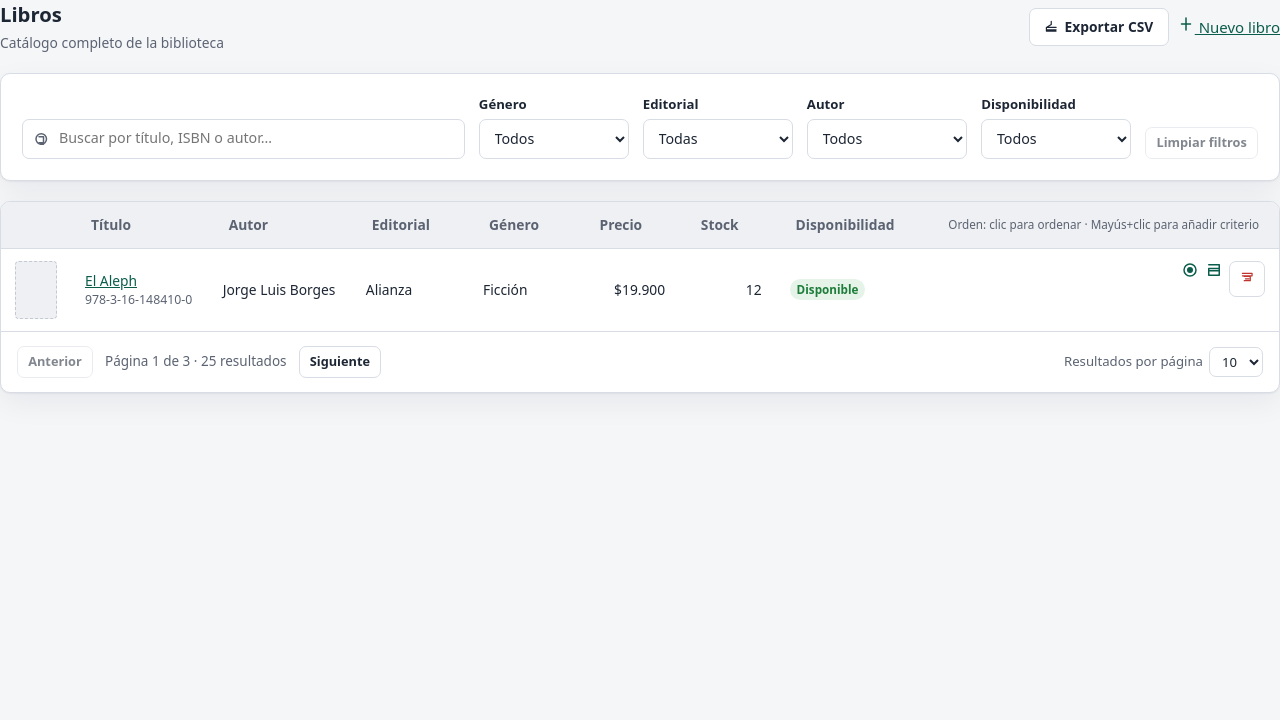
Test: BooksPage › deletes a book through the confirmation dialog
This screenshot has width=1280, height=720.
Expected: the link "El Aleph" is shown, [85,271,137,290]
Click the button named "Eliminar El Aleph" at (1247, 278), box [1229,260,1265,296]
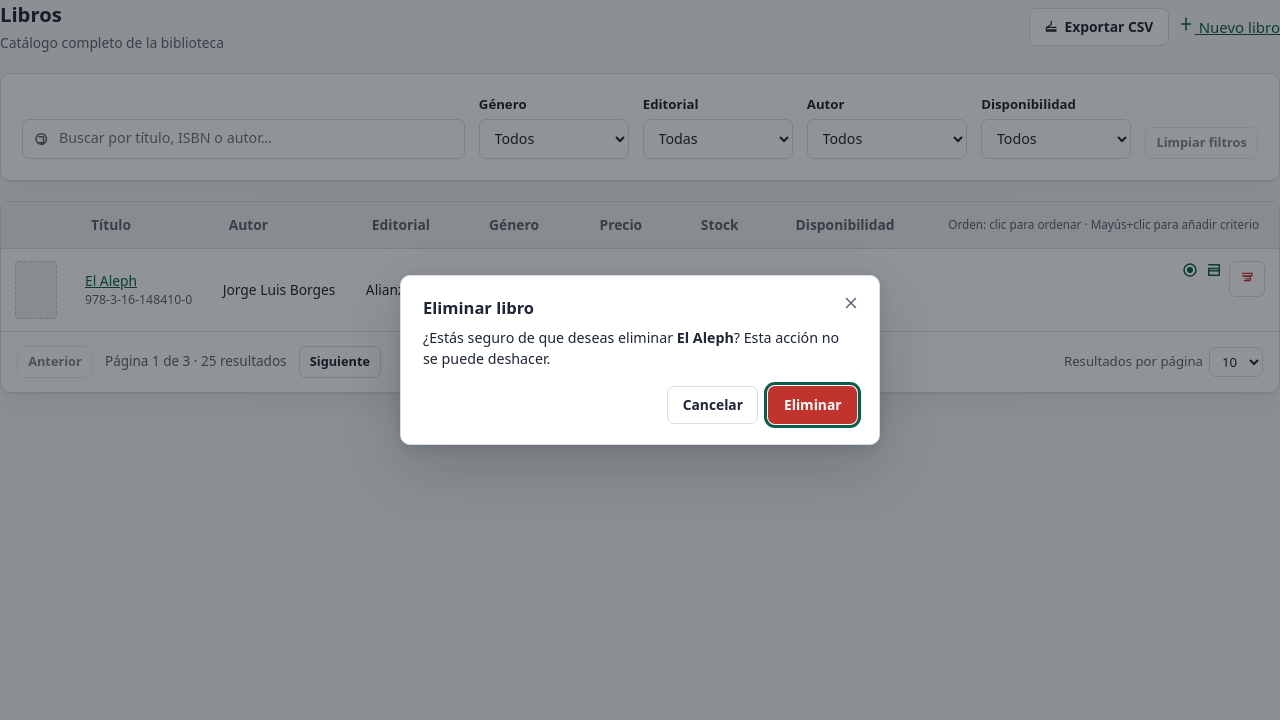
Expected: the text "¿Estás seguro de que deseas eliminar" is shown, [423,328,677,347]
Click the button "Eliminar" at (813, 405), box [768,386,857,424]
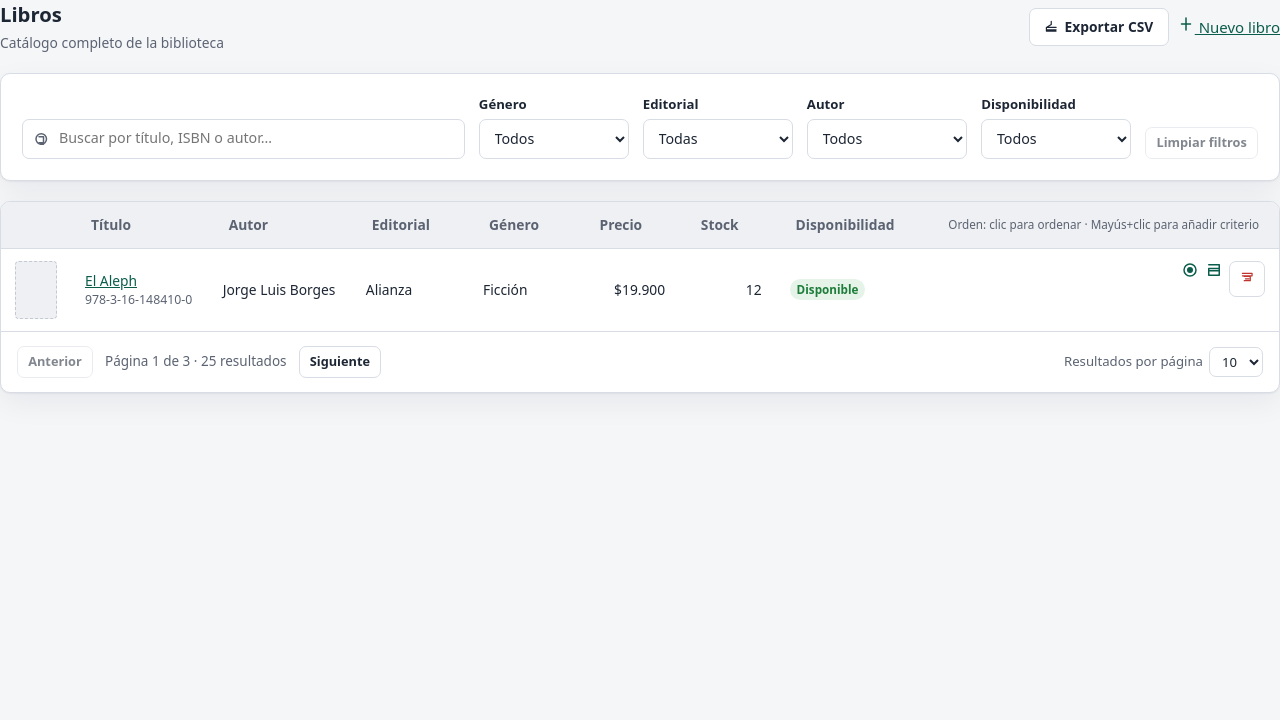
Expected: the text "¿Estás seguro" is gone
